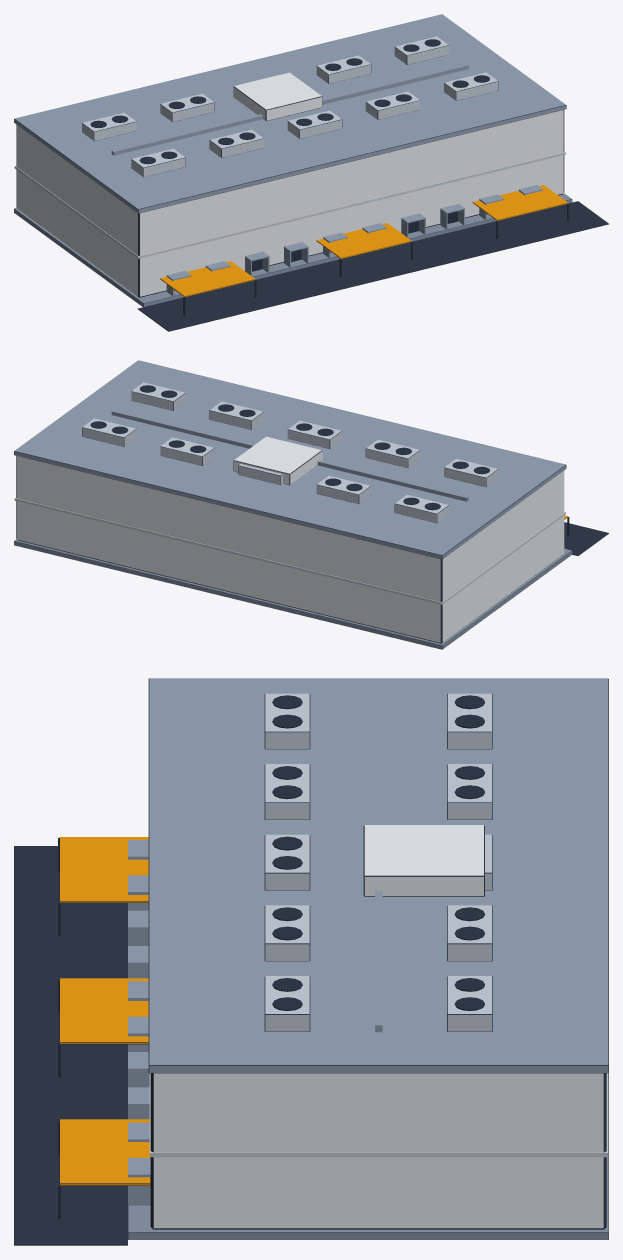
The model's file is cold_storage.glb.
The picture shows the model from 3 angles, top to bottom: view 1: azimuth 30°, elevation 25°; view 2: azimuth 150°, elevation 25°; view 3: azimuth 270°, elevation 25°; orthographic projection. The views are drawn at different scales.
Parts seen in each view (by area): view 1: cold_storage; view 2: cold_storage; view 3: cold_storage.
Part boxes in pixels (x1,y1,x2,y2): cold_storage: [14, 14, 608, 331]; cold_storage: [14, 360, 608, 649]; cold_storage: [14, 678, 608, 1245].
Size of the model in its own units: 124 by 28.5 by 78.3.
